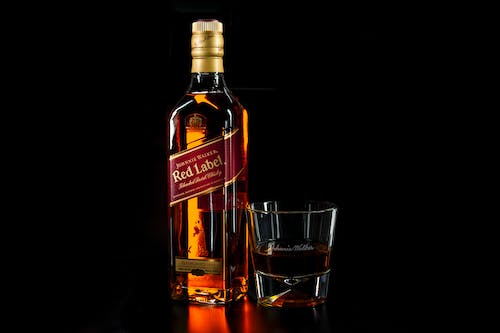alcohol: (166, 18, 250, 305), (245, 199, 338, 309)
